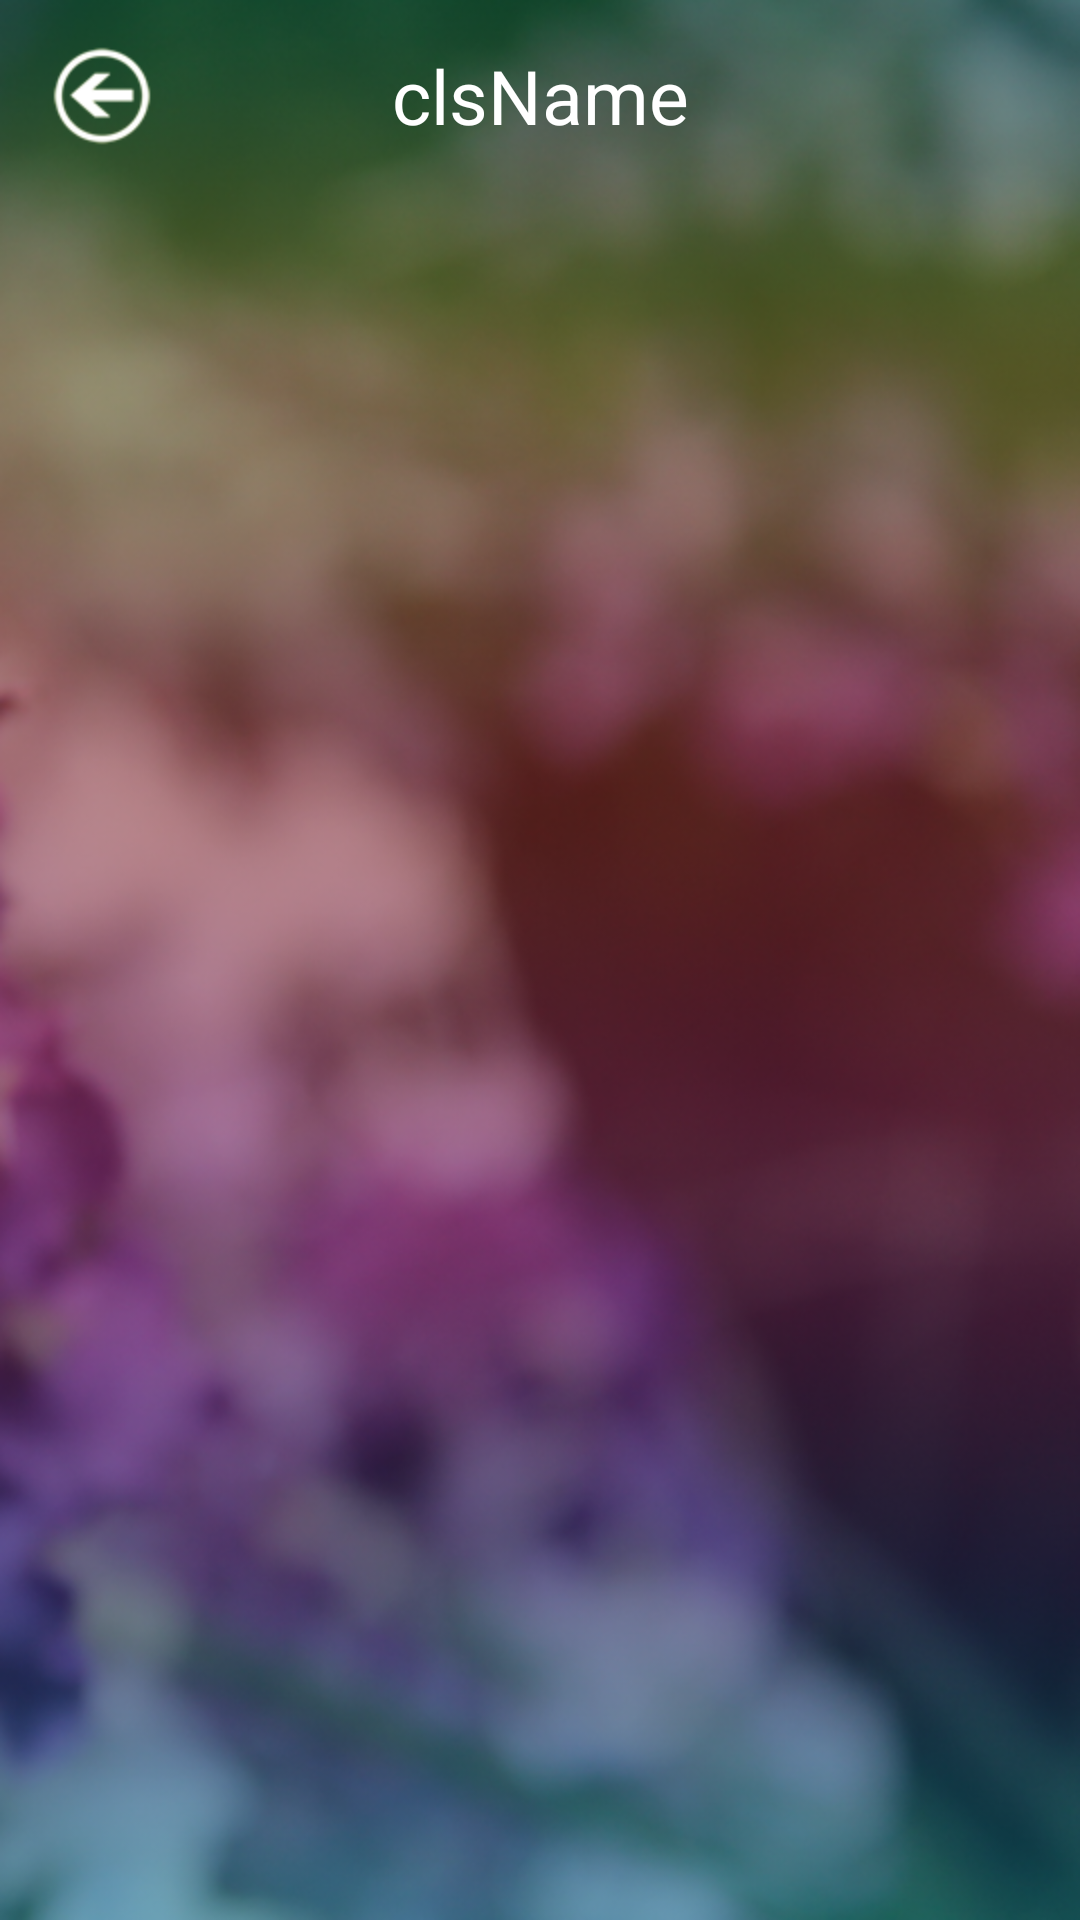

Icon click points for this 1080x1920 phone screenshot, format [x,y]:
back to the head activity: [102,96]
